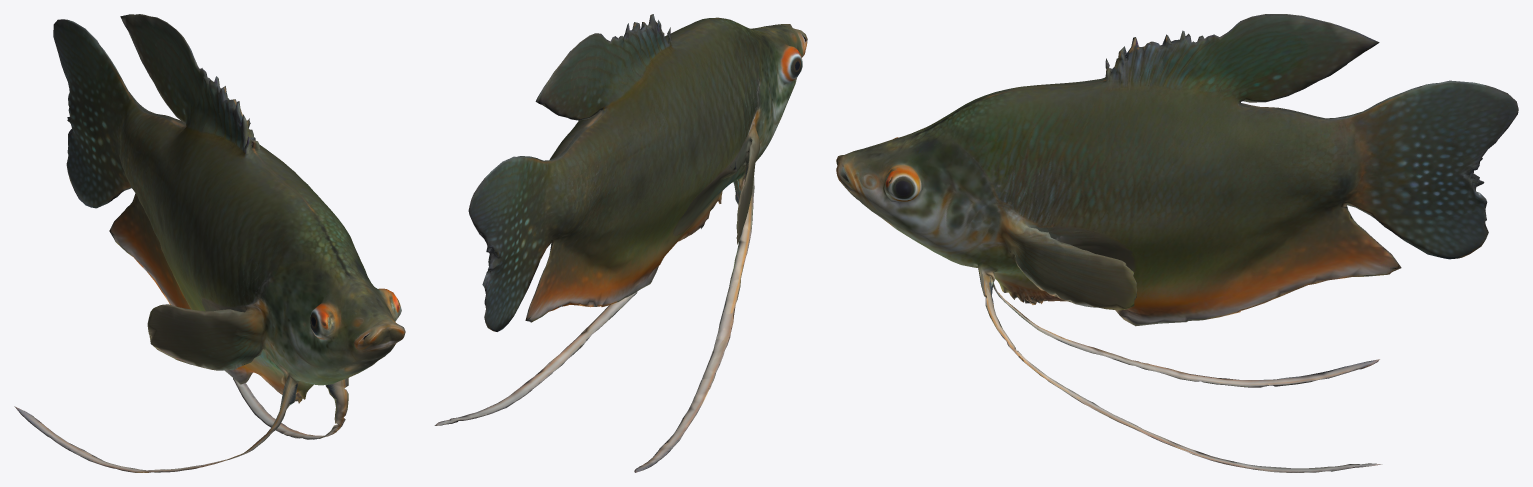
File: sepat_thailand_0604072702_texture.glb
3 views of the same model, side by side, from view 1: azimuth 30°, elevation 25°; view 2: azimuth 150°, elevation 25°; view 3: azimuth 270°, elevation 25° (orthographic). The views are drawn at different scales.
Size of the model in its own units: 0.7277 by 1.34 by 2.
1 material, 1 textured.
